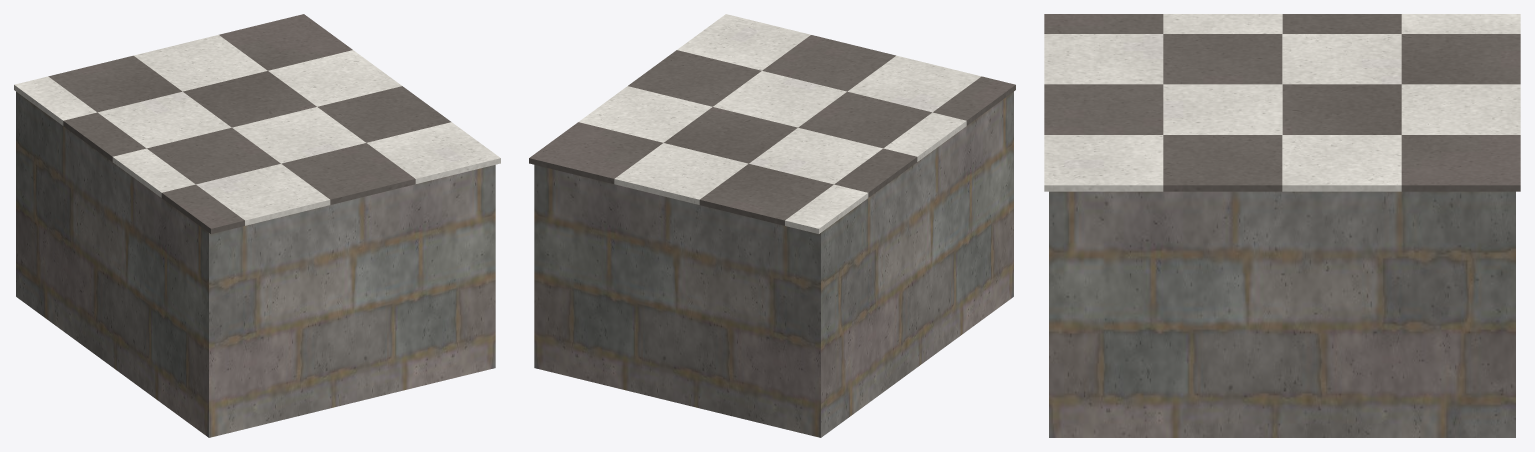
File: floor_marble_e30_0_0_0.glb
The picture shows the model from 3 angles, left to right: view 1: azimuth 30°, elevation 25°; view 2: azimuth 150°, elevation 25°; view 3: azimuth 270°, elevation 25°; orthographic projection. The views are drawn at different scales.
Parts seen in each view (by area): view 1: floor_marble_e30_0_0_0_granite, floor_marble_e30_0_0_0_marble, floor_marble_e30_0_0_0_marble2; view 2: floor_marble_e30_0_0_0_granite, floor_marble_e30_0_0_0_marble2, floor_marble_e30_0_0_0_marble; view 3: floor_marble_e30_0_0_0_granite, floor_marble_e30_0_0_0_marble, floor_marble_e30_0_0_0_marble2.
Part boxes in pixels (bbox=[...]): floor_marble_e30_0_0_0_granite: bbox=[16, 92, 495, 437]; floor_marble_e30_0_0_0_marble: bbox=[14, 35, 500, 225]; floor_marble_e30_0_0_0_marble2: bbox=[48, 14, 450, 233]; floor_marble_e30_0_0_0_granite: bbox=[534, 92, 1013, 437]; floor_marble_e30_0_0_0_marble2: bbox=[529, 35, 1015, 225]; floor_marble_e30_0_0_0_marble: bbox=[579, 14, 981, 233]; floor_marble_e30_0_0_0_granite: bbox=[1049, 191, 1515, 437]; floor_marble_e30_0_0_0_marble: bbox=[1044, 14, 1520, 191]; floor_marble_e30_0_0_0_marble2: bbox=[1044, 14, 1520, 191].
Bounding box in the file's own units: 1.7 × 1.18 × 2.
Materials: 3 (3 with a texture image).
